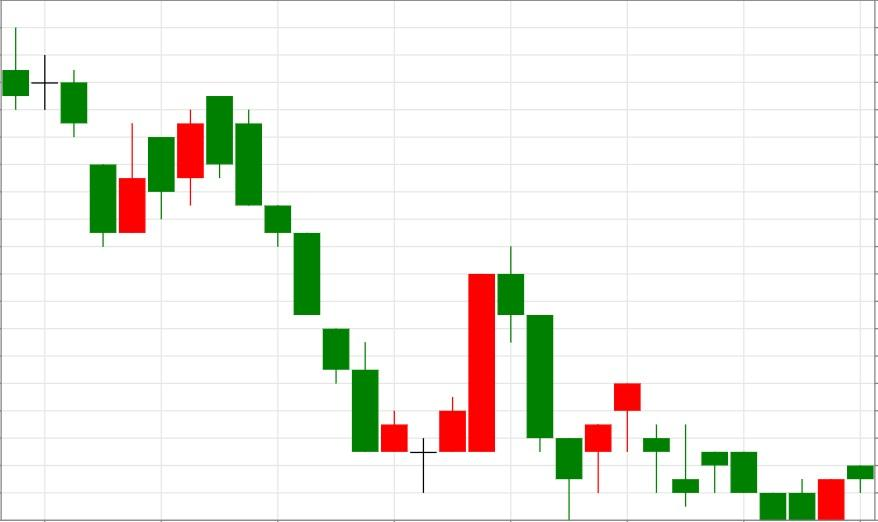bearish_engulfing_fall: (408, 247, 583, 521)
bullish_engulfing_rise: (613, 383, 845, 522)
